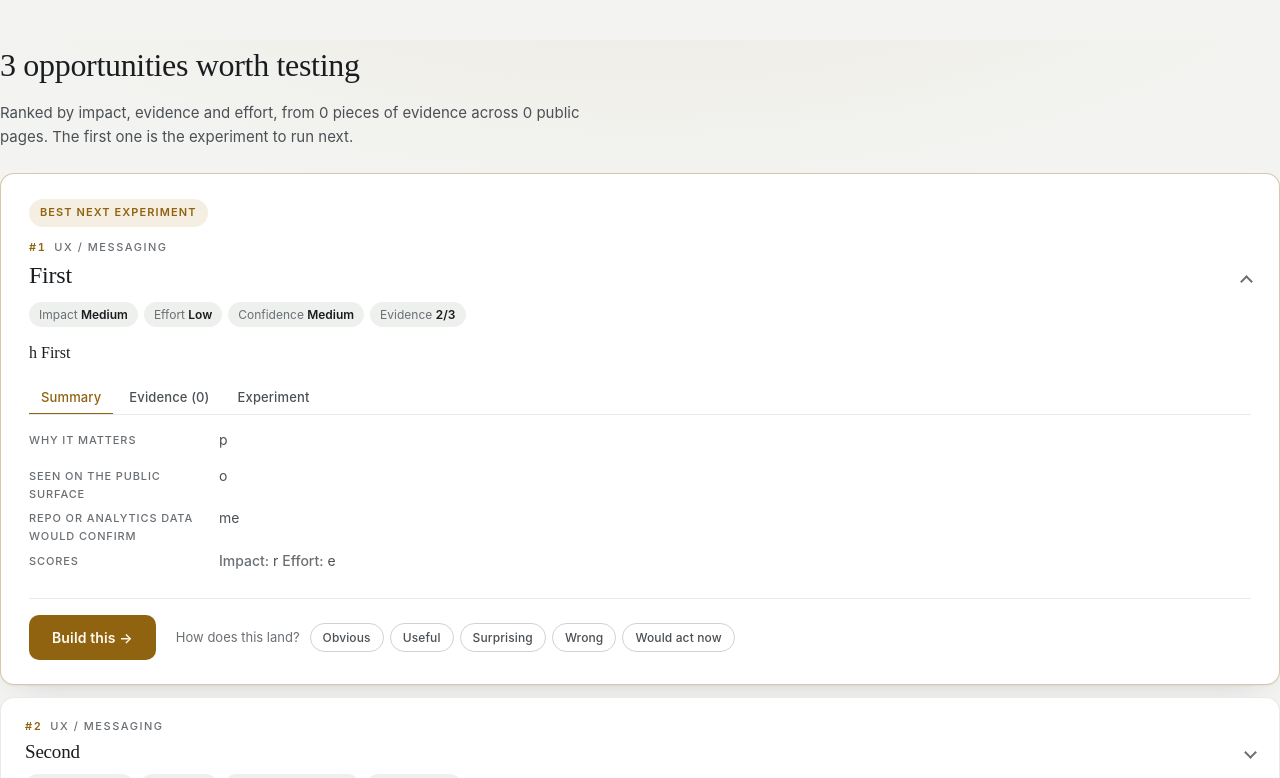
Test: reopening a report › still works when the list can't be loaded: Build this asks as before
Step 1. Click the button "Build this →" → coordinates (92, 637), box [29,615,156,660]
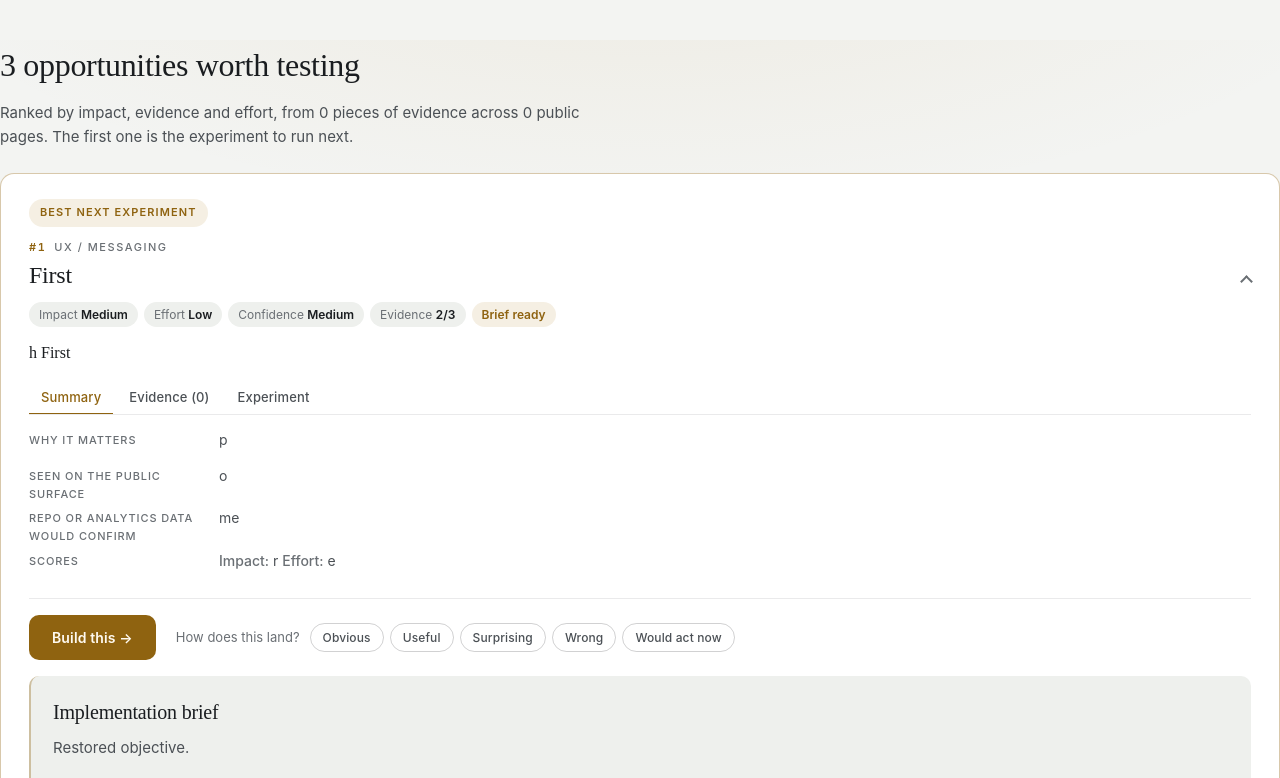
Check: the text "Restored objective." is shown, box [53,738,189,757]
